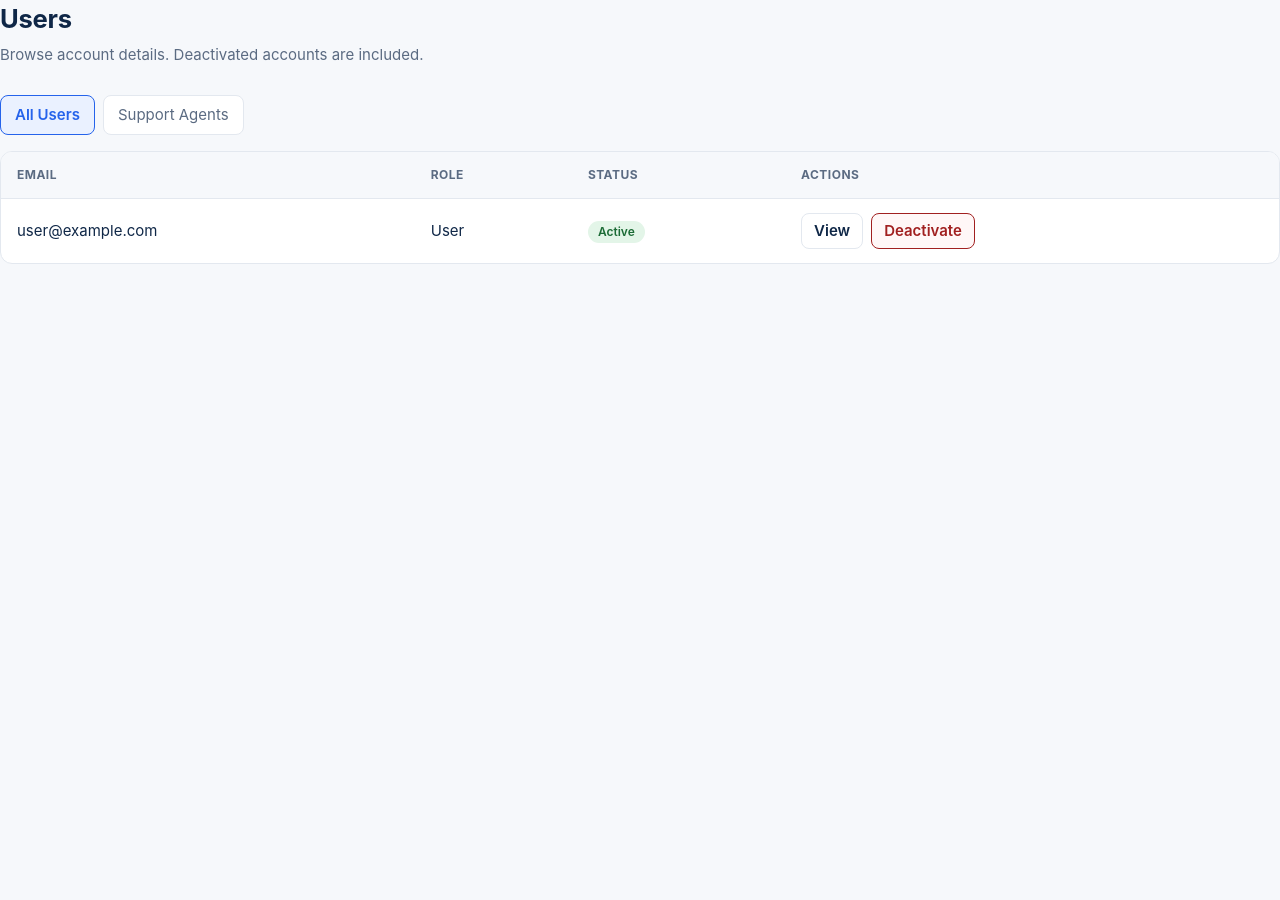
Test case: UserDirectoryComponent › requires confirmation and updates the row after deactivation
This screenshot has width=1280, height=900.
Step 1. Click the button with class "btn-danger" → (923, 231), box top-left (871, 213), bottom-right (975, 249)
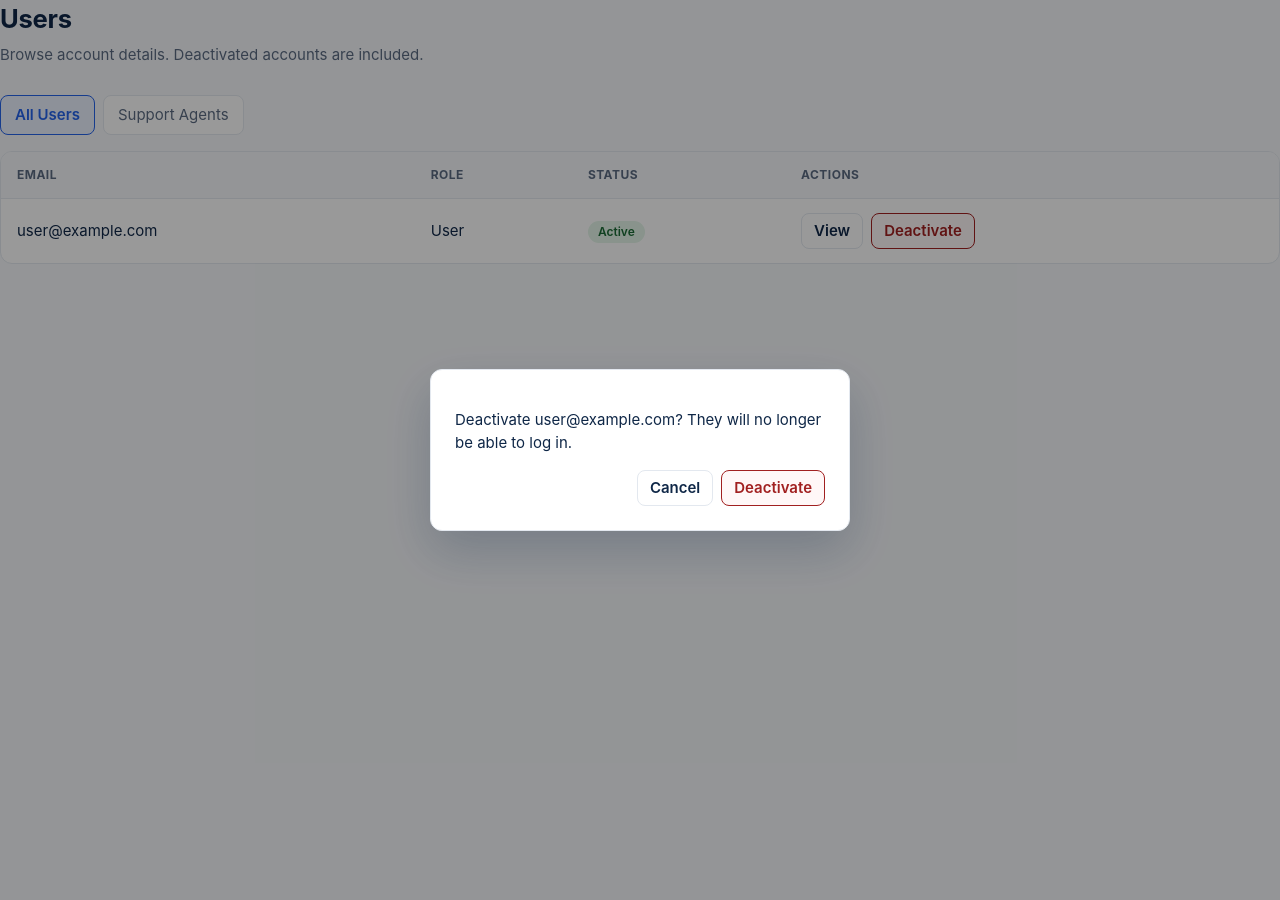
Step 2. Click the button with class "btn-danger" showing "Deactivate" → (773, 488), box top-left (721, 470), bottom-right (825, 506)
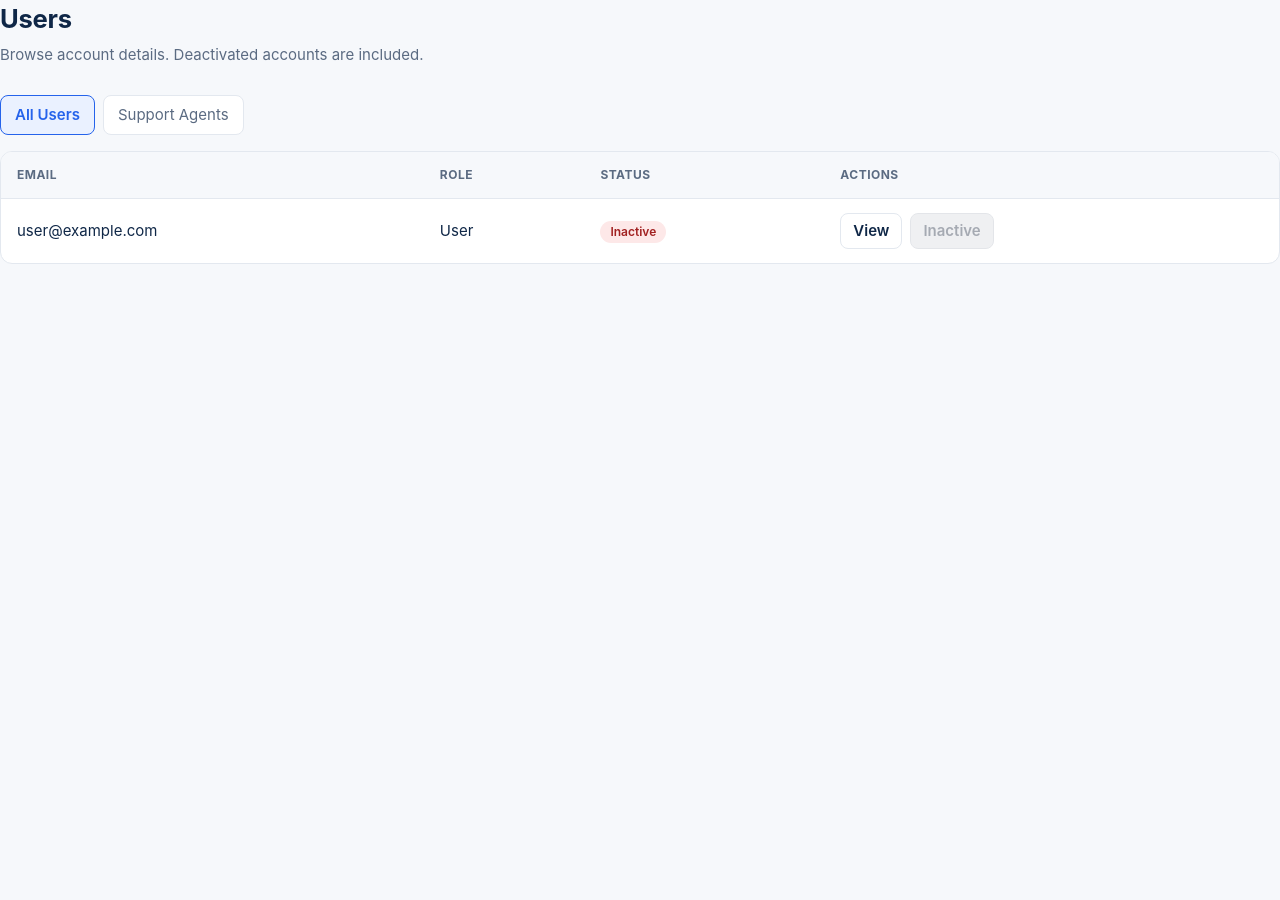
Check: the text "Inactive" is shown, box top-left (600, 221), bottom-right (666, 243)
Check: the button with class "btn-danger" is gone
Check: the dialog with class "dialog" is gone
